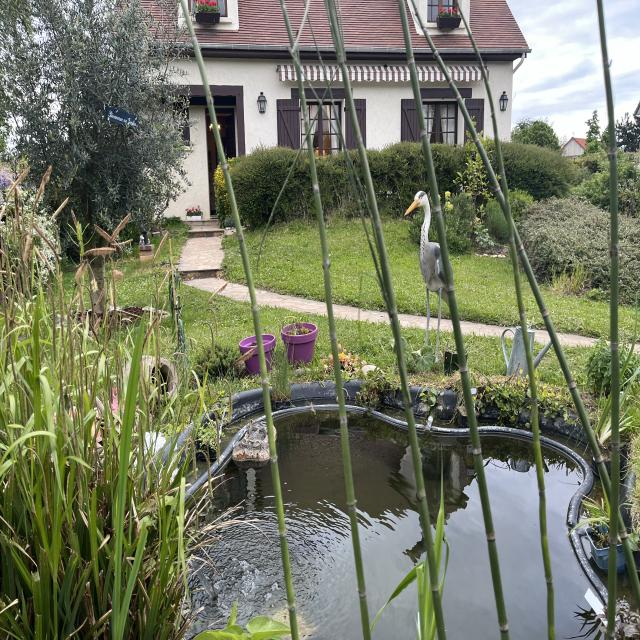Heron: (397, 176, 464, 365)
